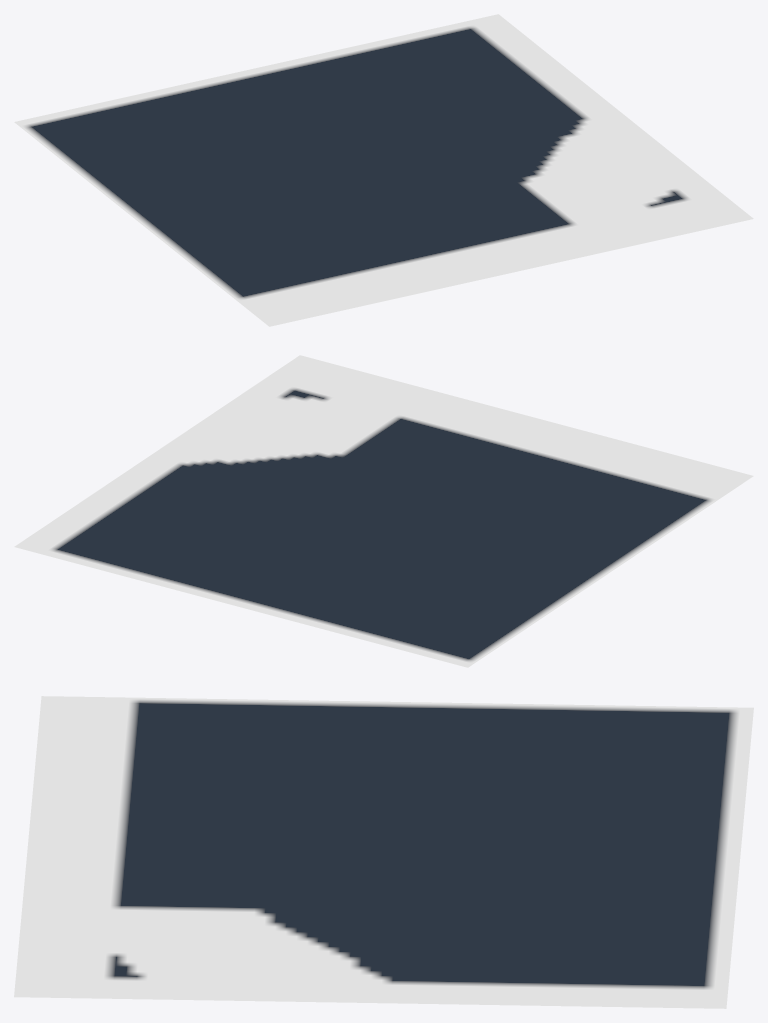
Rendered from jz_hdj_y.fbx.
The picture shows the model from 3 angles, top to bottom: view 1: azimuth 30°, elevation 25°; view 2: azimuth 150°, elevation 25°; view 3: azimuth 270°, elevation 25°; orthographic projection. The views are drawn at different scales.
Parts seen in each view (by area): view 1: jz_hdj_y; view 2: jz_hdj_y; view 3: jz_hdj_y.
Boxes of the visible parts, x1,y1,x2,y2 form: jz_hdj_y: (14, 14, 753, 326); jz_hdj_y: (14, 355, 753, 667); jz_hdj_y: (14, 696, 753, 1008).
Size of the model in its own units: 98.23 by 2.1e-14 by 98.23.
